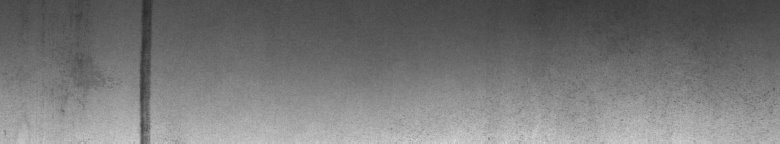hd: (61, 4, 160, 136)
